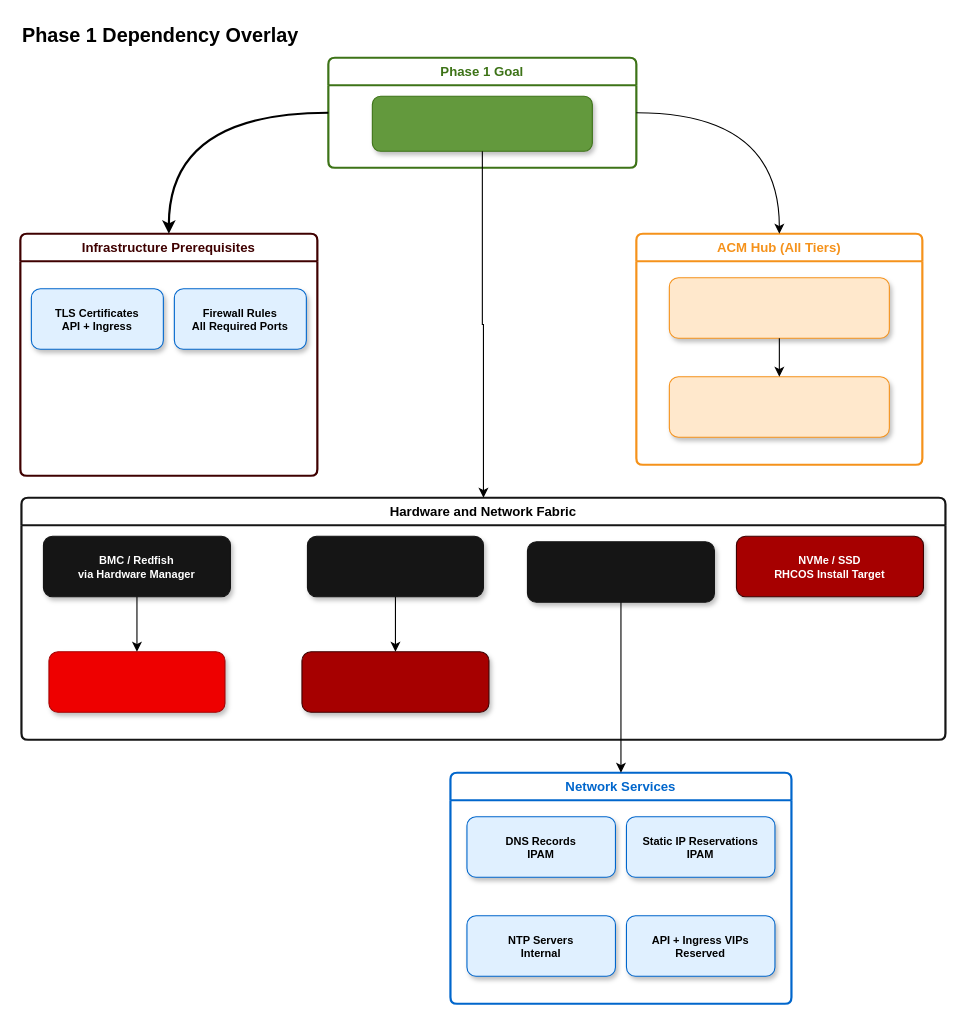
Image size: 965x1023. Some labels were removed from this diagram. The centre of each missing label's shape, as x and y in pixels:
"ACM Hub Running + Reachable" goes at point (780, 309).
"Assisted Installer Service" goes at point (780, 408).
"Hardware Manager Server Profiles" goes at point (137, 683).
"Management Network DNS + NTP" goes at point (621, 573).
"Physical NICs Cabled + Trunked" goes at point (396, 567).
"Running OCP Cluster" goes at point (483, 125).
"Switch Fabric VLAN Trunking" goes at point (396, 683).
